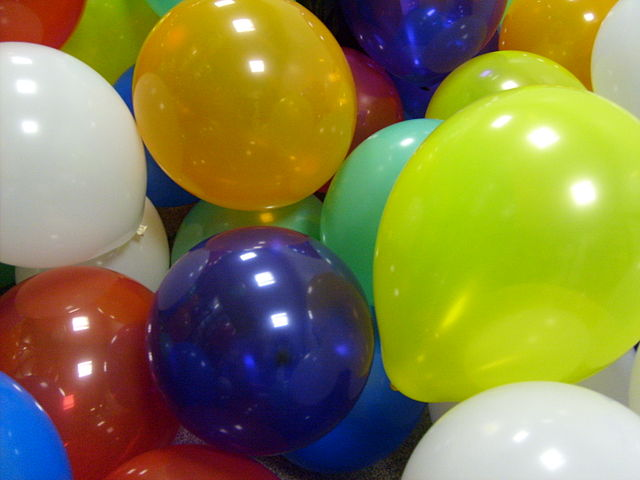Balloon: (375, 83, 640, 402), (146, 226, 374, 455), (132, 1, 358, 210), (1, 41, 147, 267)
